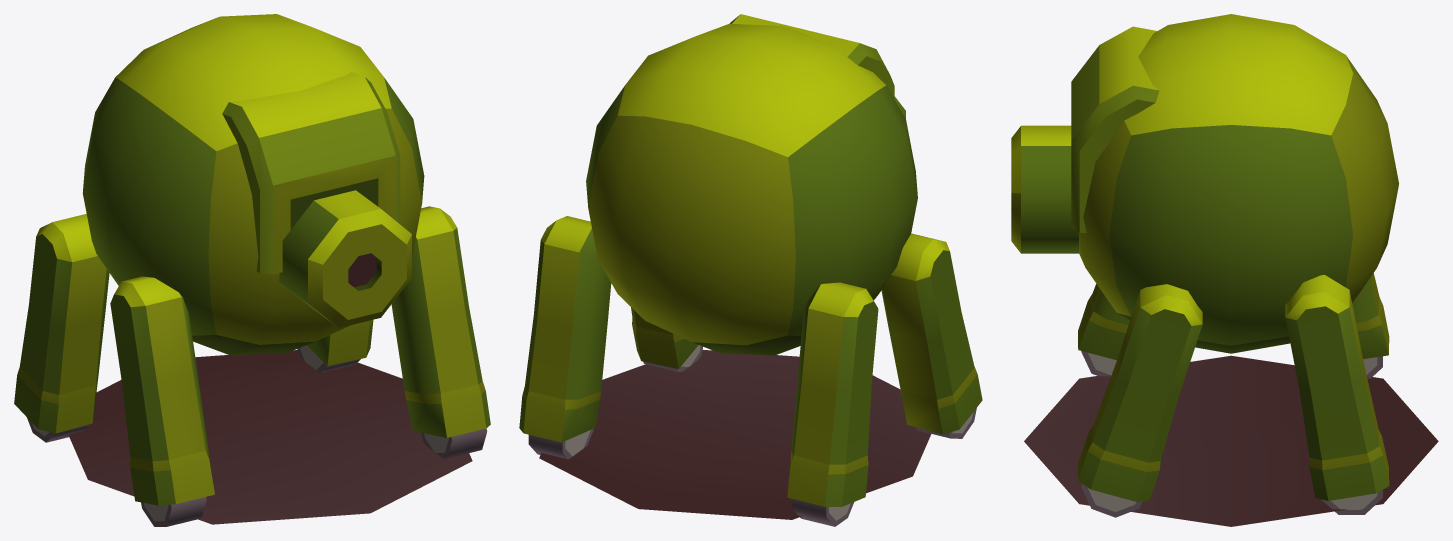
Rendered from NeoTankMesh.AcidRain.glb.
3 views of the same model, side by side, from view 1: azimuth 30°, elevation 25°; view 2: azimuth 150°, elevation 25°; view 3: azimuth 270°, elevation 25° (orthographic). The views are drawn at different scales.
Parts seen in each view (by area): view 1: NeoTankMesh.AcidRain; view 2: NeoTankMesh.AcidRain; view 3: NeoTankMesh.AcidRain.
Boxes of the visible parts, bbox=[...] form: NeoTankMesh.AcidRain: bbox=[14, 14, 490, 526]; NeoTankMesh.AcidRain: bbox=[519, 14, 982, 526]; NeoTankMesh.AcidRain: bbox=[1011, 14, 1438, 526].
Bounding box in the file's own units: 2.03 × 2.26 × 2.14.
Materials: 1 (1 with a texture image).
